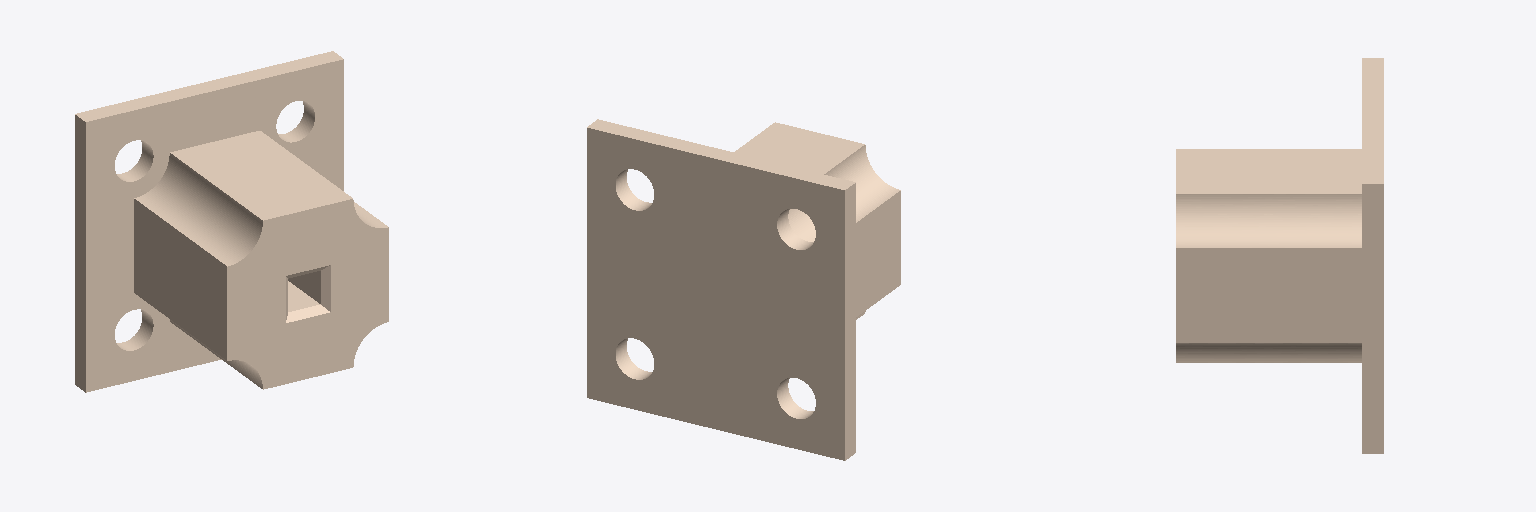
File: industreal_tray_insert_rectangular_peg_4mm.obj
3 views of the same model, side by side, from view 1: azimuth 30°, elevation 25°; view 2: azimuth 150°, elevation 25°; view 3: azimuth 270°, elevation 25° (orthographic).
Visible parts, largest first — view 1: industreal_tray_insert_rectangular_peg_4mm; view 2: industreal_tray_insert_rectangular_peg_4mm; view 3: industreal_tray_insert_rectangular_peg_4mm.
Boxes of the visible parts, x1,y1,x2,y2 form: industreal_tray_insert_rectangular_peg_4mm: [75, 51, 388, 392]; industreal_tray_insert_rectangular_peg_4mm: [587, 119, 900, 460]; industreal_tray_insert_rectangular_peg_4mm: [1176, 58, 1383, 453].
Bounding box in the file's own units: 0.04 × 0.04 × 0.028.